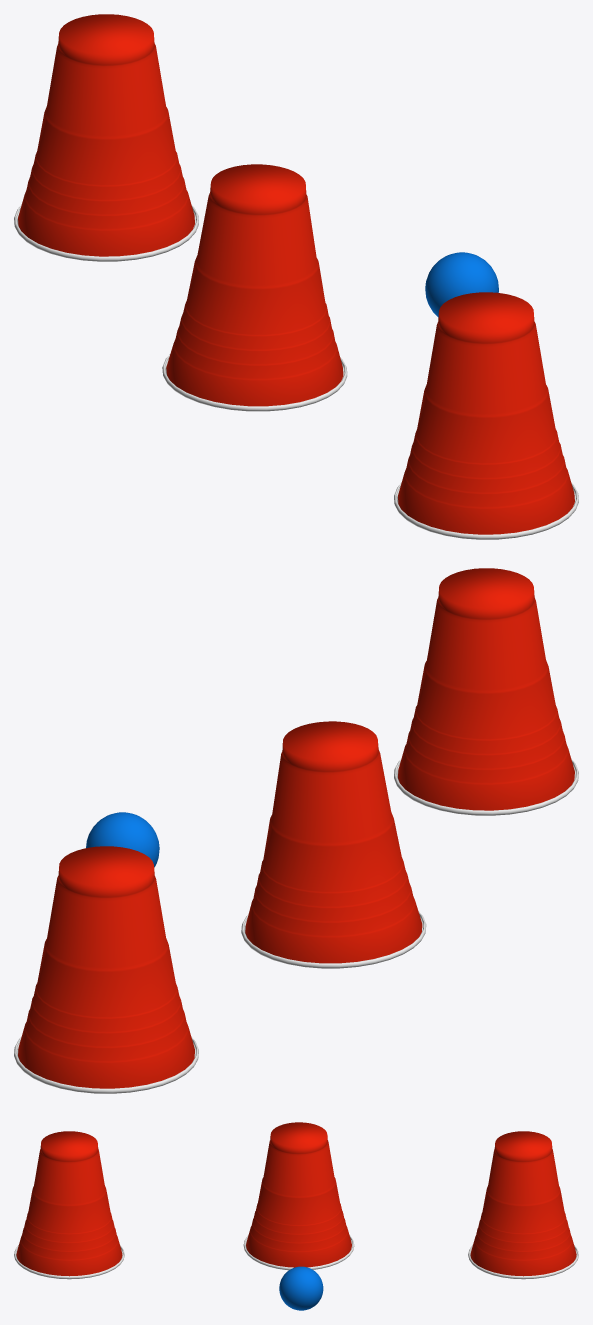
The model's file is juegoVasos.fbx.
3 views of the same model, one above another, from view 1: azimuth 30°, elevation 25°; view 2: azimuth 150°, elevation 25°; view 3: azimuth 270°, elevation 25° (orthographic). The views are drawn at different scales.
Parts seen in each view (by area): view 1: Cilindro.001, Cilindro.002, Cilindro, Esfera; view 2: Cilindro.002, Cilindro.001, Cilindro, Esfera; view 3: Cilindro.002, Cilindro.001, Cilindro, Esfera.
Part boxes in pixels (<box>): Cilindro.001: <box>14,14,198,261</box>; Cilindro.002: <box>394,292,578,539</box>; Cilindro: <box>162,164,347,411</box>; Esfera: <box>425,252,498,317</box>; Cilindro.002: <box>394,568,578,815</box>; Cilindro.001: <box>14,846,198,1093</box>; Cilindro: <box>241,721,426,968</box>; Esfera: <box>86,812,159,867</box>; Cilindro.002: <box>14,1131,124,1279</box>; Cilindro.001: <box>468,1131,578,1279</box>; Cilindro: <box>243,1122,354,1270</box>; Esfera: <box>279,1266,323,1310</box>.
Size of the model in its own units: 471 by 272 by 1199.
